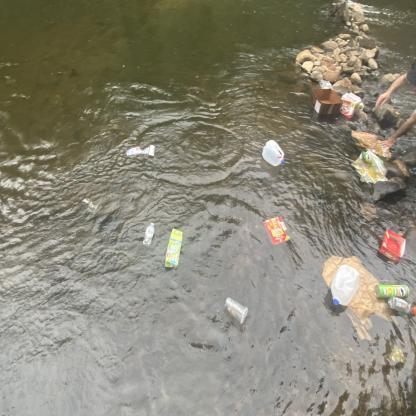trash: (320, 254, 400, 344), (327, 262, 360, 308), (350, 148, 390, 182), (349, 130, 392, 158), (376, 227, 406, 264), (308, 86, 344, 116), (261, 216, 292, 247), (222, 294, 250, 327), (163, 227, 184, 270), (338, 89, 363, 120), (260, 138, 286, 167), (386, 295, 416, 320), (374, 281, 410, 301), (383, 346, 408, 368), (358, 150, 384, 167), (371, 154, 388, 178), (142, 221, 156, 248), (80, 194, 96, 214), (125, 145, 150, 157), (318, 76, 334, 94), (147, 143, 157, 160)
